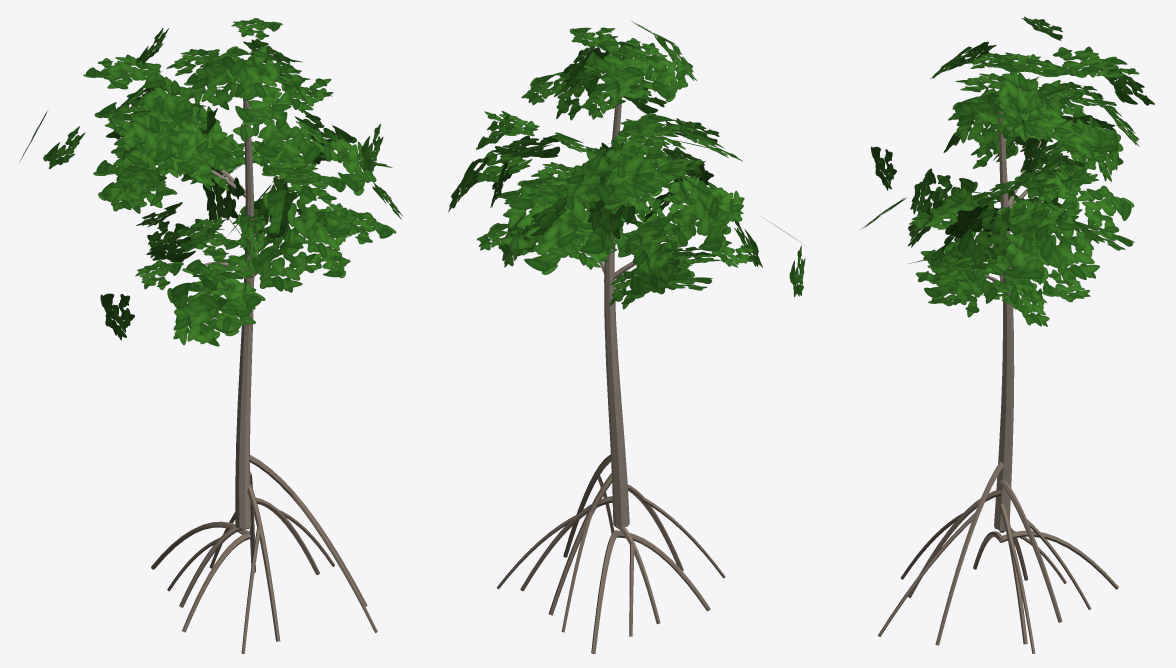
File: arvore_mangue_a.glb
3 views of the same model, side by side, from view 1: azimuth 30°, elevation 25°; view 2: azimuth 150°, elevation 25°; view 3: azimuth 270°, elevation 25° (orthographic). The views are drawn at different scales.
Visible parts, largest first — view 1: arvore_mangue_a; view 2: arvore_mangue_a; view 3: arvore_mangue_a.
Boxes of the visible parts, x1,y1,x2,y2 form: arvore_mangue_a: (20, 18, 402, 653); arvore_mangue_a: (448, 21, 805, 653); arvore_mangue_a: (860, 16, 1154, 653).
Size of the model in its own units: 5.3 by 8.55 by 4.32.
Materials: 3 (1 with a texture image).
